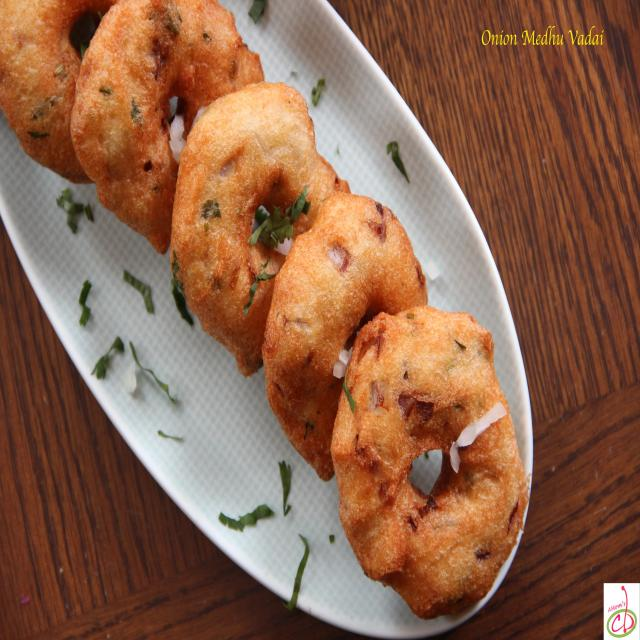medu vadai: (331, 306, 529, 619), (70, 0, 262, 253), (169, 78, 331, 376), (277, 200, 417, 477), (0, 0, 122, 182)
